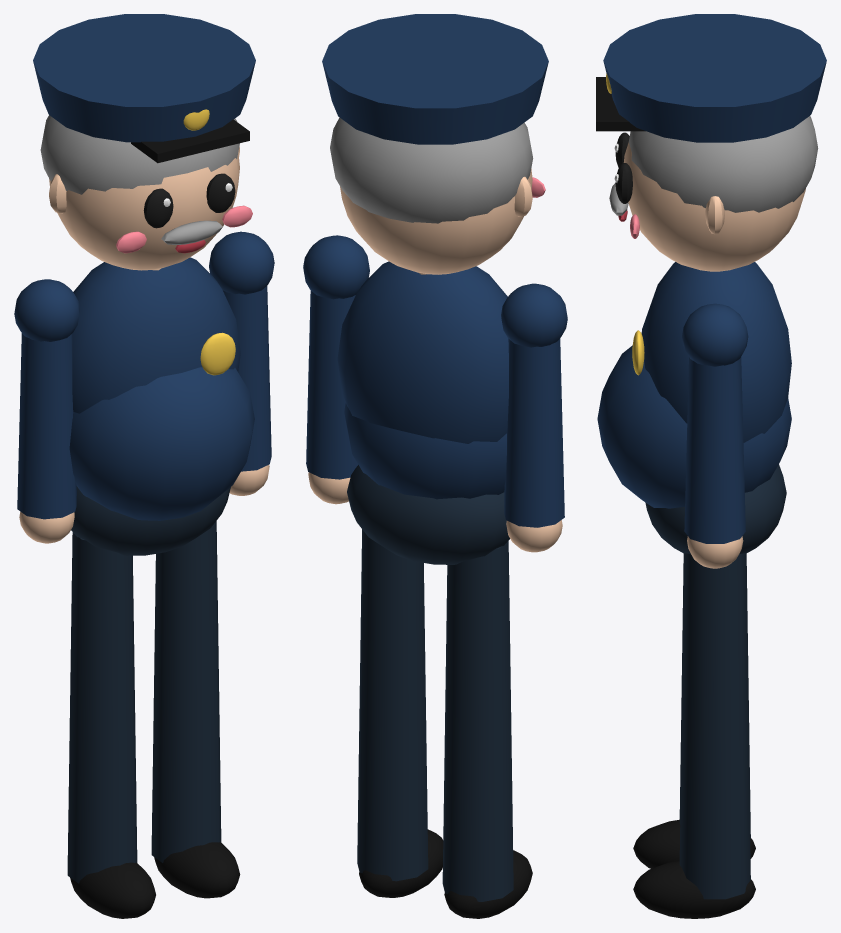
Rendered from heist_guard.glb.
The picture shows the model from 3 angles, left to right: view 1: azimuth 30°, elevation 25°; view 2: azimuth 150°, elevation 25°; view 3: azimuth 270°, elevation 25°; orthographic projection.
Visible parts, largest first — view 1: Body.001, Leg_R.001, Leg_L.001, Arm_R.001, Arm_L.001; view 2: Body.001, Leg_R.001, Leg_L.001, Arm_R.001, Arm_L.001; view 3: Body.001, Leg_L.001, Arm_L.001, Leg_R.001.
Boxes of the visible parts, x1,y1,x2,y2 form: Body.001: (33, 14, 255, 555); Leg_R.001: (67, 532, 155, 918); Leg_L.001: (151, 521, 240, 898); Arm_R.001: (14, 279, 79, 543); Arm_L.001: (209, 231, 274, 495); Body.001: (322, 14, 548, 564); Leg_R.001: (442, 541, 532, 918); Leg_L.001: (357, 529, 443, 897); Arm_R.001: (501, 283, 567, 552); Arm_L.001: (303, 235, 369, 504); Body.001: (596, 14, 826, 553); Leg_L.001: (633, 553, 755, 918); Arm_L.001: (682, 303, 748, 568); Leg_R.001: (633, 553, 755, 868).
Bounding box in the file's own units: 0.57 × 1.8 × 0.4513.
